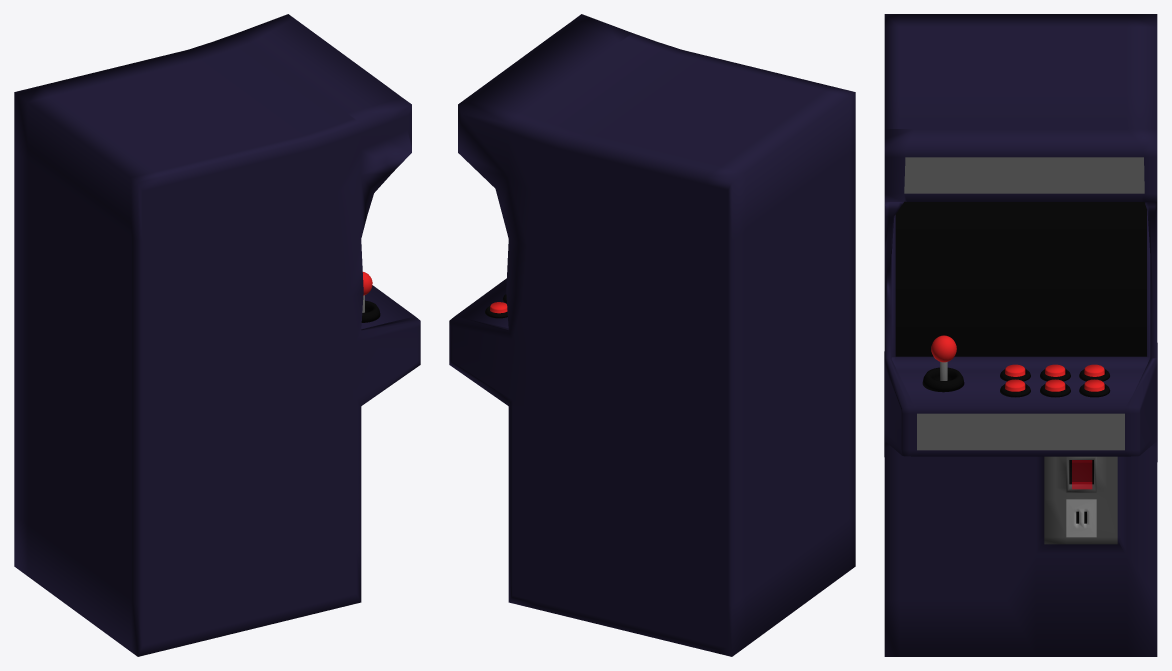
File: arcade.fbx
3 renders of one model, left to right at view 1: azimuth 30°, elevation 25°; view 2: azimuth 150°, elevation 25°; view 3: azimuth 270°, elevation 25°, orthographic. The views are drawn at different scales.
Parts seen in each view (by area): view 1: Cube; view 2: Cube; view 3: Cube, Screen, Sphere, Cube.001, Sphere.001.
Boxes of the visible parts, box(x1,y1,x2,y2) form: Cube: box(14, 14, 420, 656); Cube: box(449, 14, 855, 656); Cube: box(884, 14, 1157, 656); Screen: box(895, 201, 1146, 356); Sphere: box(922, 367, 964, 392); Cube.001: box(1072, 460, 1092, 489); Sphere.001: box(931, 335, 956, 362).
Bounding box in the file's own units: 652 × 1039 × 480.
